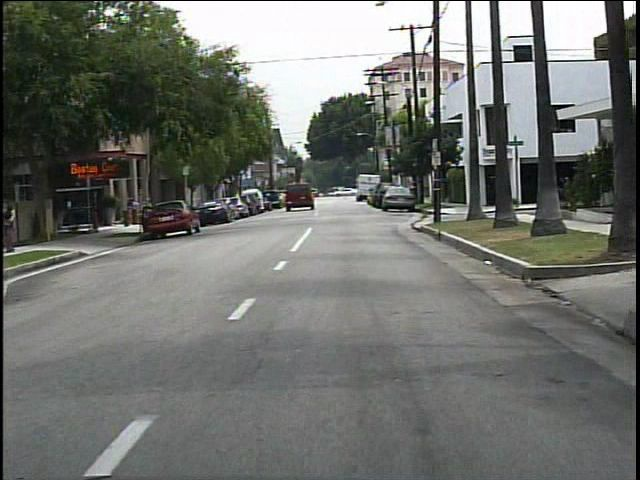person: (5, 199, 28, 254)
